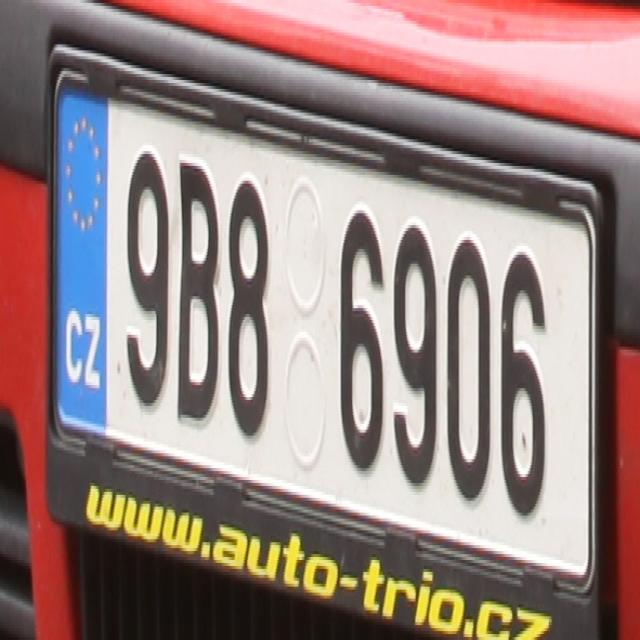0: (445, 231, 495, 513)
6: (501, 249, 548, 518), (341, 208, 385, 468)
8: (228, 174, 268, 430)
9: (123, 142, 168, 409), (393, 216, 437, 477)
B: (178, 154, 221, 430)
